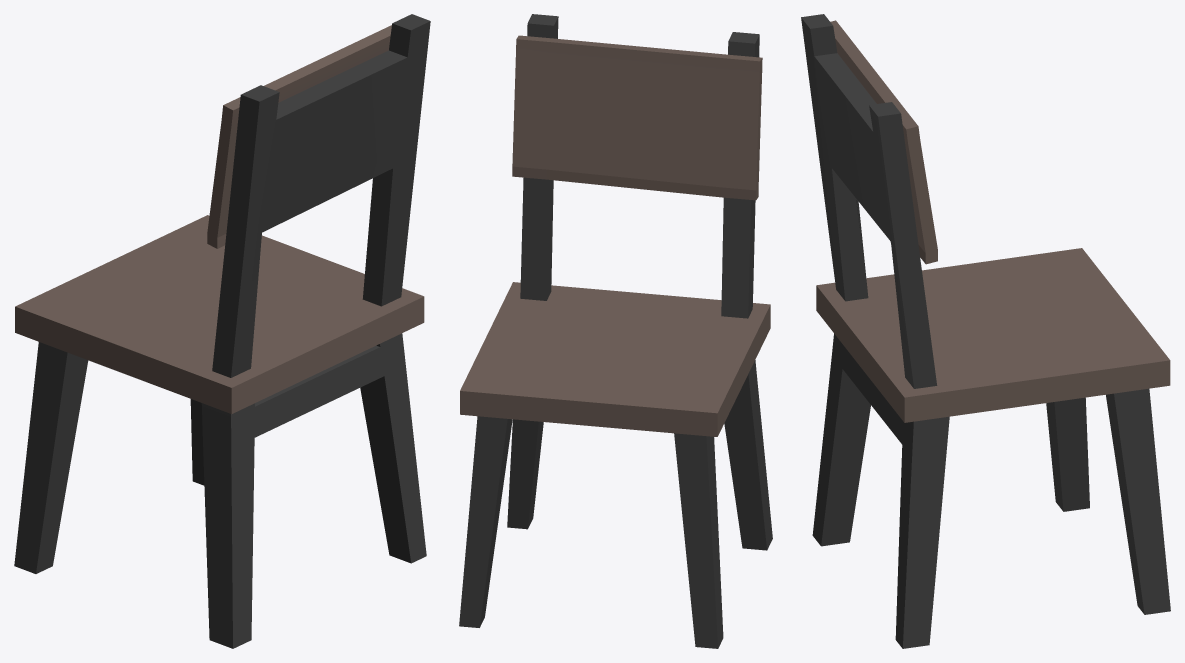
The model's file is Sem_Stoel_Color.fbx.
3 renders of one model, left to right at view 1: azimuth 30°, elevation 25°; view 2: azimuth 150°, elevation 25°; view 3: azimuth 270°, elevation 25°, orthographic. The views are drawn at different scales.
Parts seen in each view (by area): view 1: pCube1; view 2: pCube1; view 3: pCube1.
Part boxes in pixels (x1=…): pCube1: x1=14, y1=14, x2=430, y2=648; pCube1: x1=459, y1=14, x2=772, y2=648; pCube1: x1=801, y1=14, x2=1170, y2=648.
Bounding box in the file's own units: 3.26 × 5.33 × 3.38.
